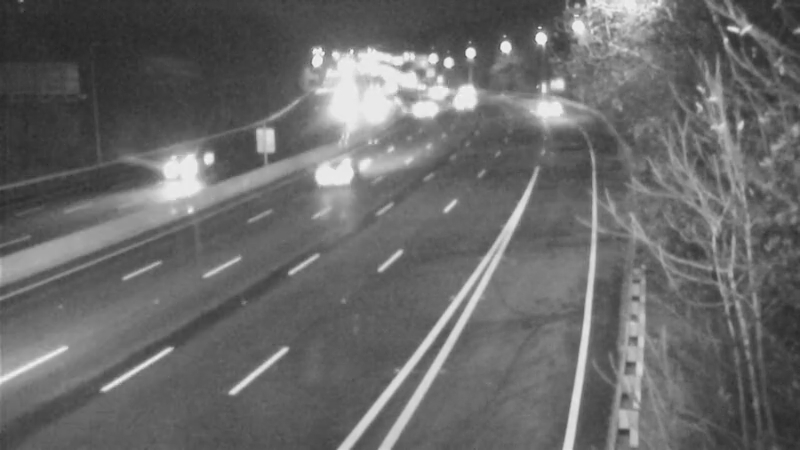vehicle: (284, 136, 364, 216), (138, 129, 218, 209), (414, 68, 464, 118), (439, 63, 489, 113), (437, 76, 487, 126), (518, 80, 568, 130), (393, 83, 443, 133), (344, 81, 394, 131)
